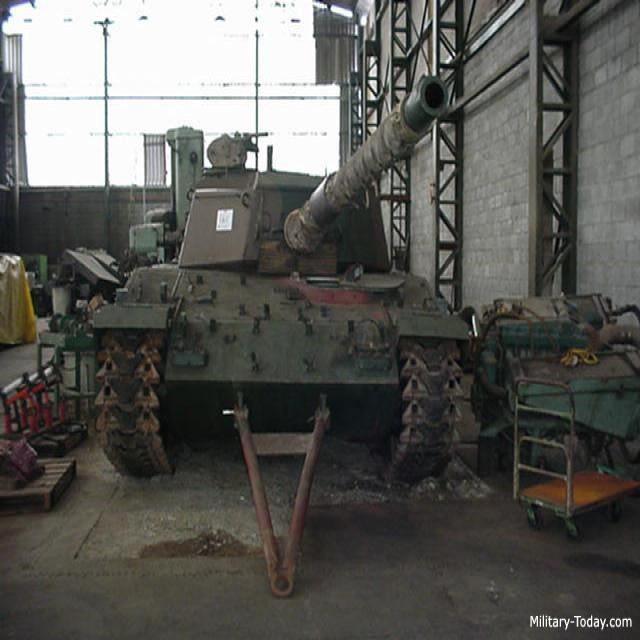Tank: (115, 88, 458, 472)
